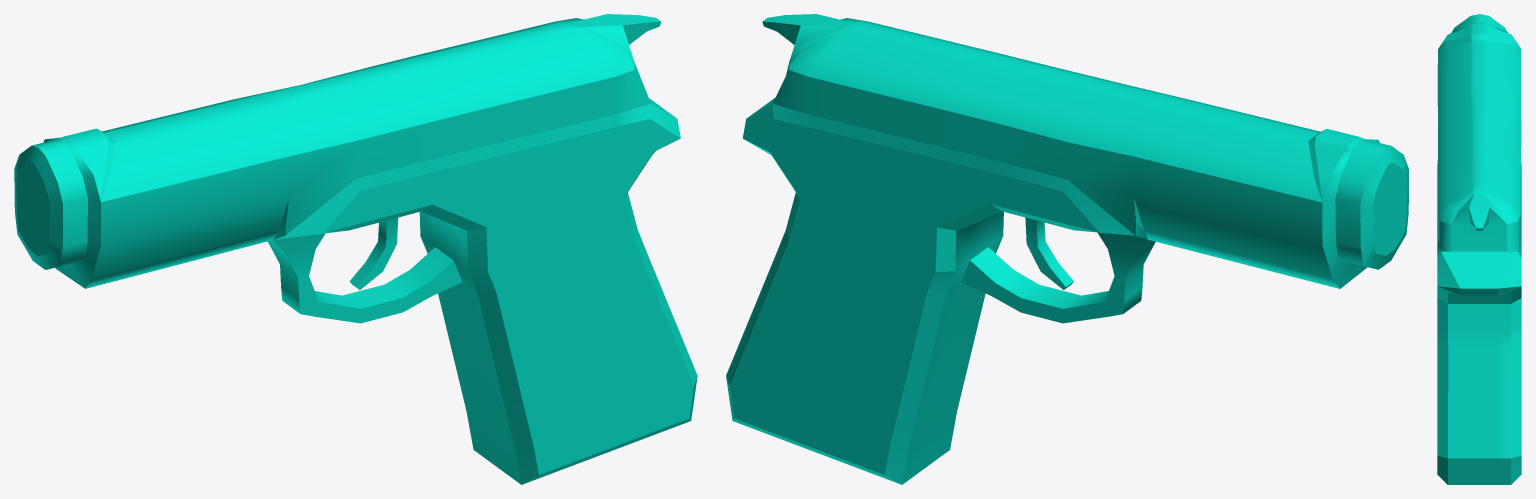
File: MESH_Dualies.fbx
3 renders of one model, left to right at view 1: azimuth 30°, elevation 25°; view 2: azimuth 150°, elevation 25°; view 3: azimuth 270°, elevation 25°, orthographic. The views are drawn at different scales.
Parts seen in each view (by area): view 1: MESH_Dualies; view 2: MESH_Dualies; view 3: MESH_Dualies.
Boxes of the visible parts, left/top/right/bottom form: MESH_Dualies: left=14, top=14, right=697, bottom=484; MESH_Dualies: left=726, top=14, right=1408, bottom=484; MESH_Dualies: left=1437, top=14, right=1521, bottom=484.
Bounding box in the file's own units: 3.75 × 2.41 × 0.6507.
